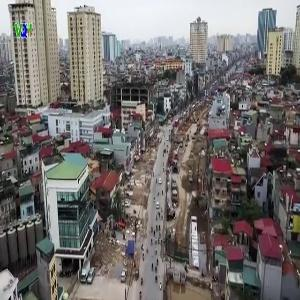drone: (52, 179, 108, 235)
